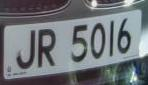0: (89, 19, 108, 63)
1: (106, 17, 117, 61)
5: (69, 21, 90, 64)
6: (115, 15, 133, 58)
J: (12, 24, 37, 71)
R: (37, 22, 59, 70)
